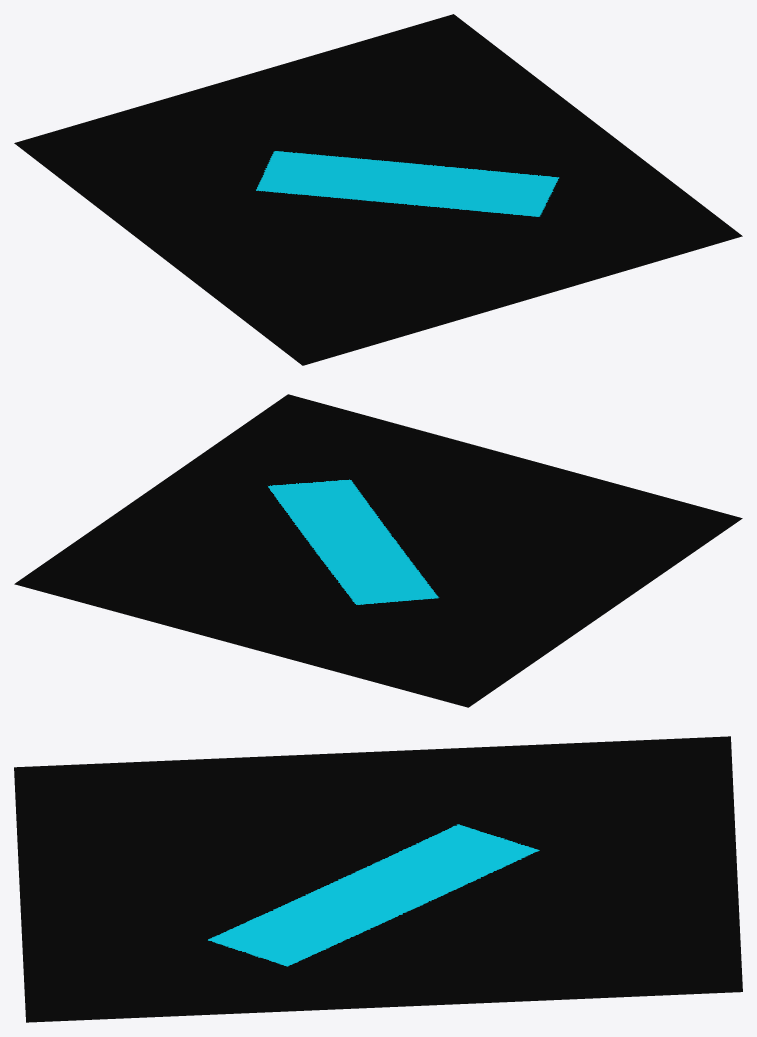
File: KILX_20030327_054455_REF_0339-33468.png.dae
3 renders of one model, top to bottom at view 1: azimuth 30°, elevation 25°; view 2: azimuth 150°, elevation 25°; view 3: azimuth 270°, elevation 25°, orthographic. The views are drawn at different scales.
Visible parts, largest first — view 1: TIN; view 2: TIN; view 3: TIN.
Boxes of the visible parts, x1=… form: TIN: x1=14, y1=14, x2=742, y2=365; TIN: x1=14, y1=394, x2=742, y2=707; TIN: x1=14, y1=736, x2=742, y2=1022.
Bounding box in the file's own units: 6169 × 6707 × 481.
Materials: 1 (1 with a texture image).
